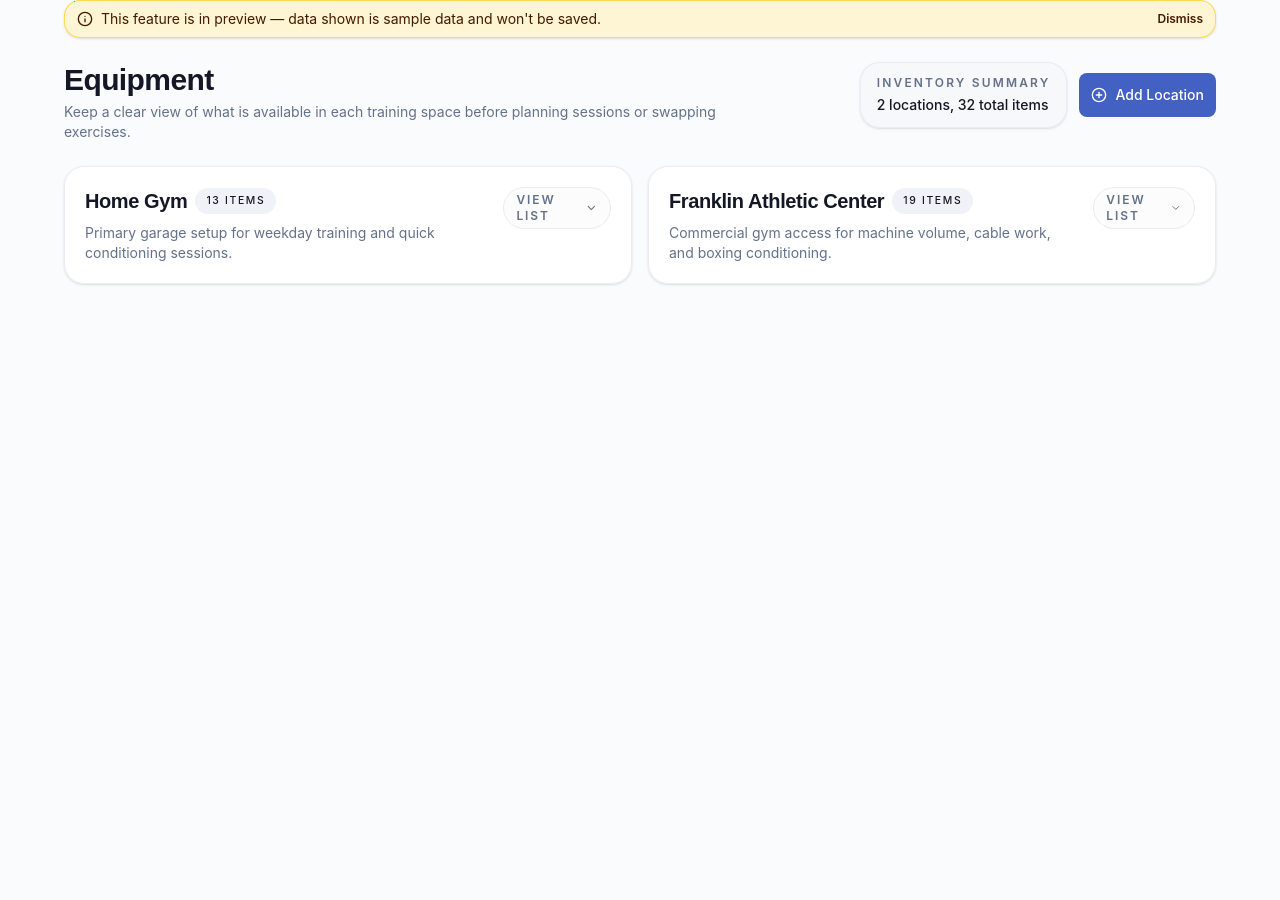
EquipmentRoutePage › supports inline editing for an equipment item name and details
Click the button "Home Gym". click: {"x": 348, "y": 225}
box: [65,167,631,283]
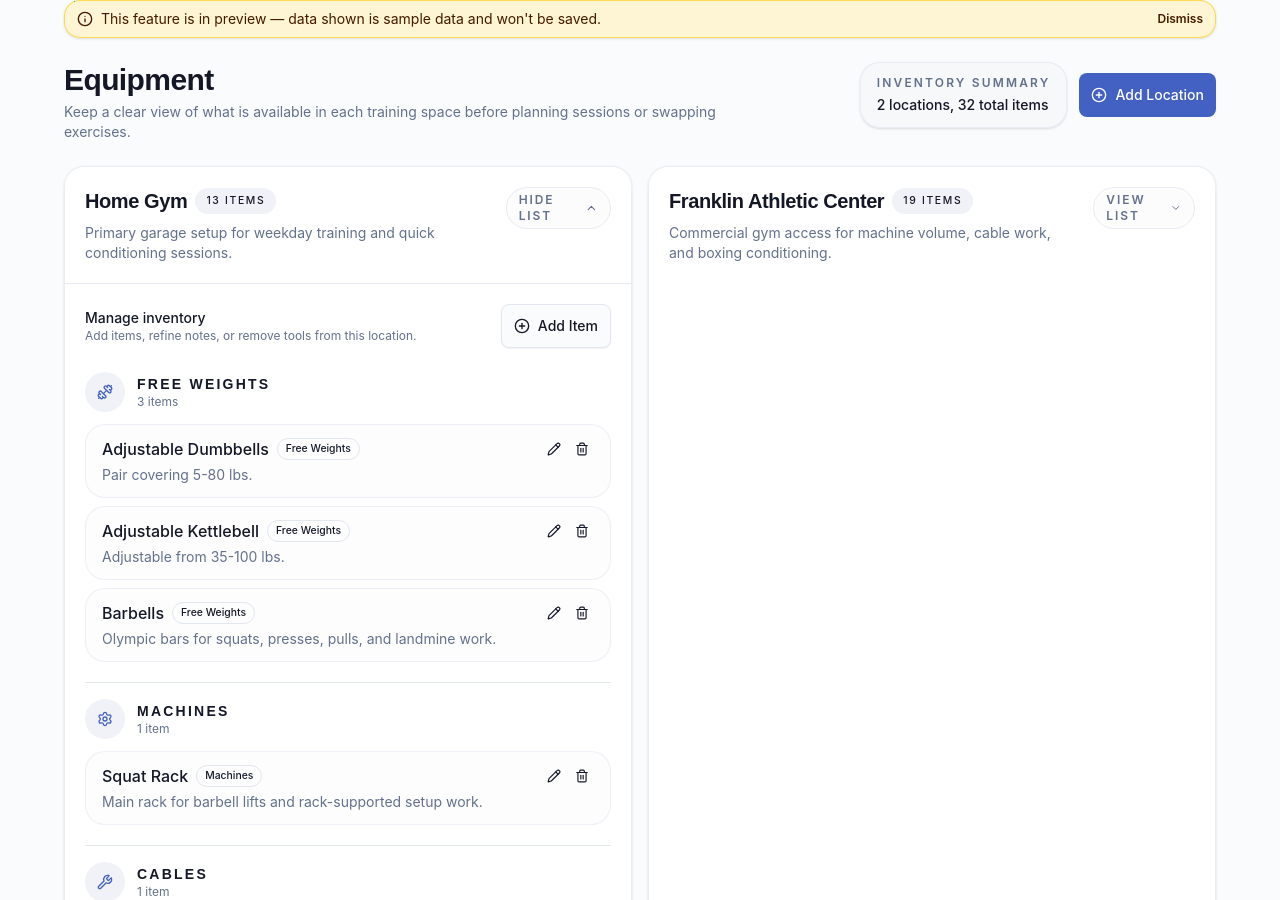
Click the button named "Edit Adjustable Dumbbells". click: {"x": 554, "y": 449}
box: [542,437,566,461]
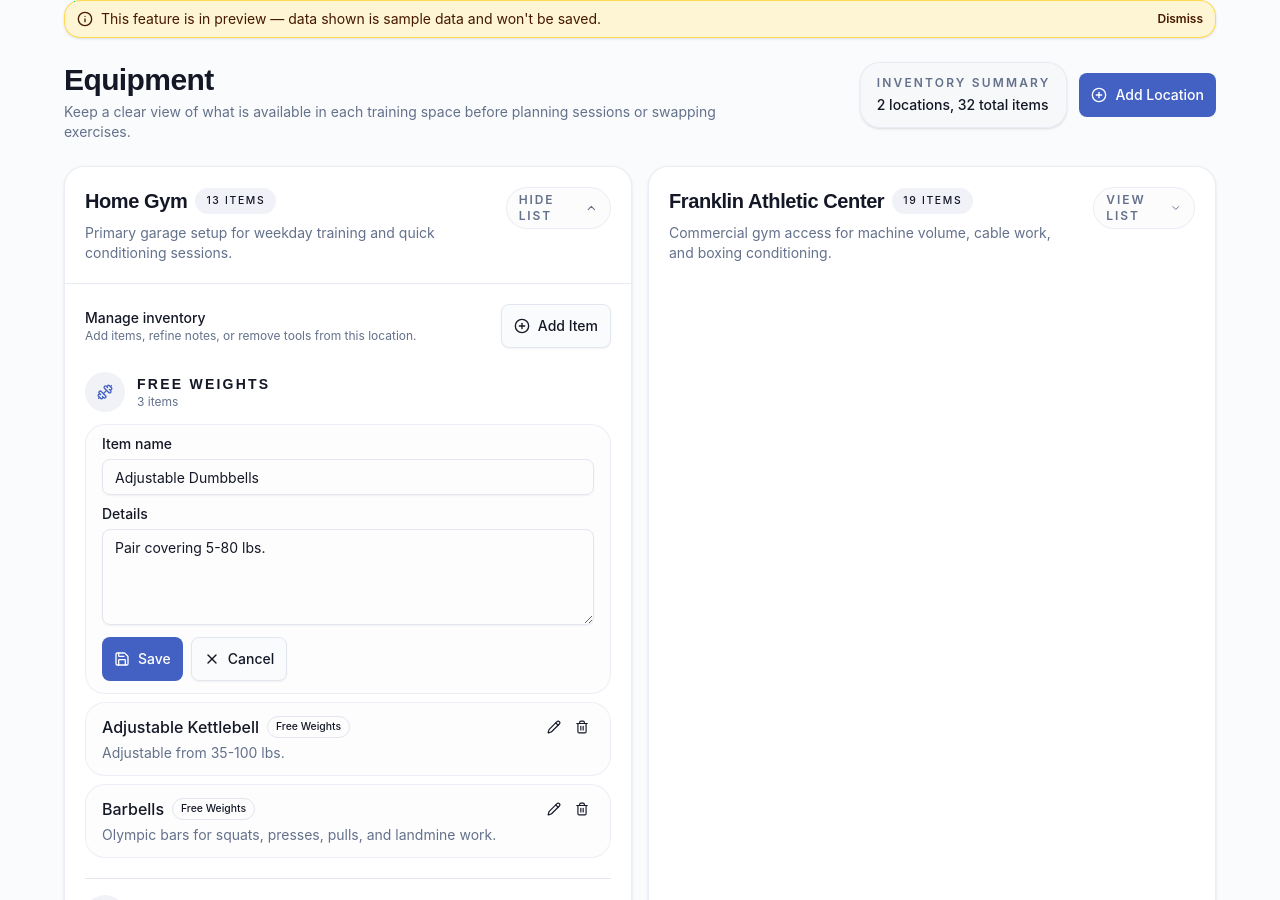
Replace the text in the field labelled "Item name" with "Competition Dumbbells". click: {"x": 348, "y": 477}
box: [102,459,594,495]
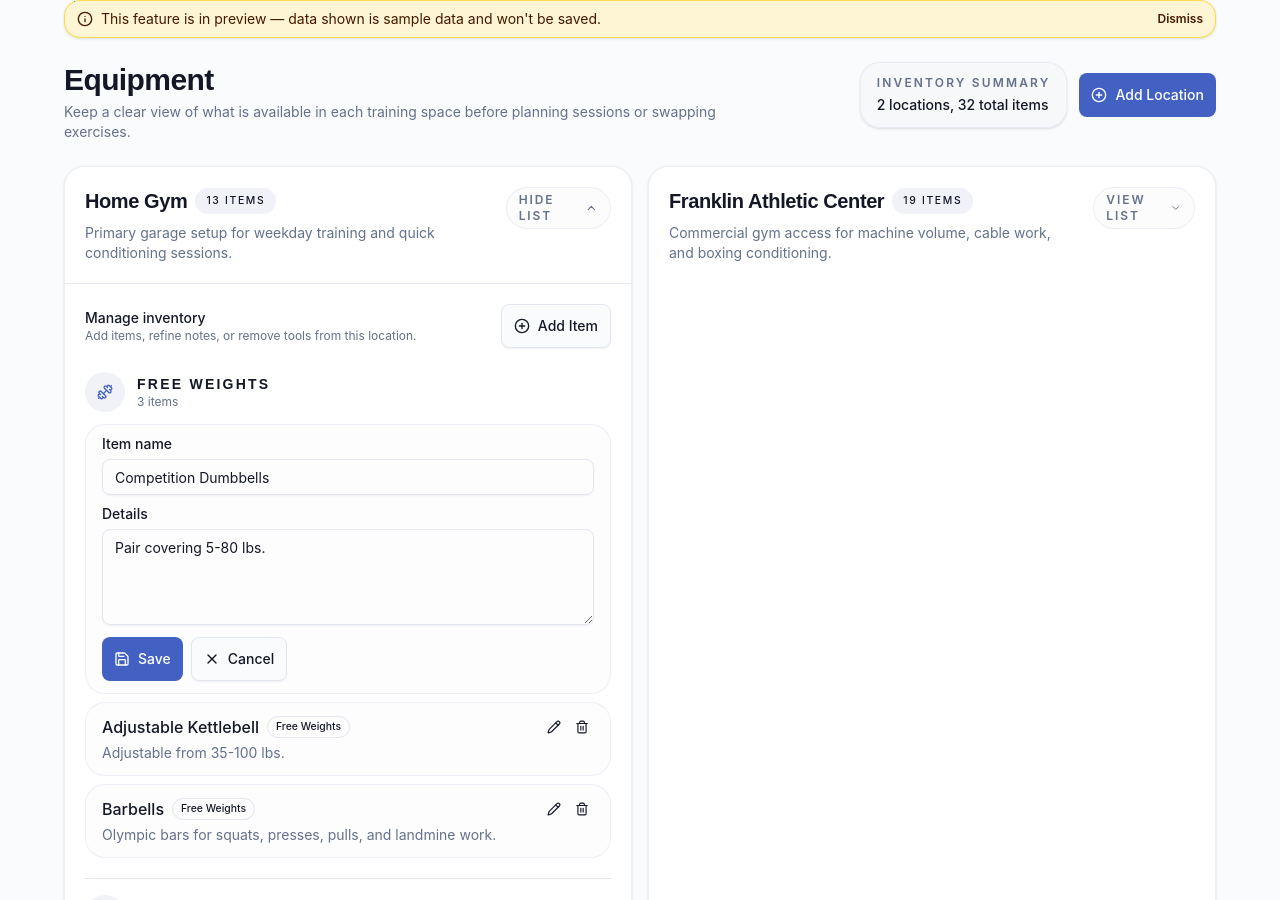
Replace the text in the text box labelled "Details" with "Pair covering 10-90 lbs.". click: {"x": 348, "y": 577}
box: [102,529,594,625]
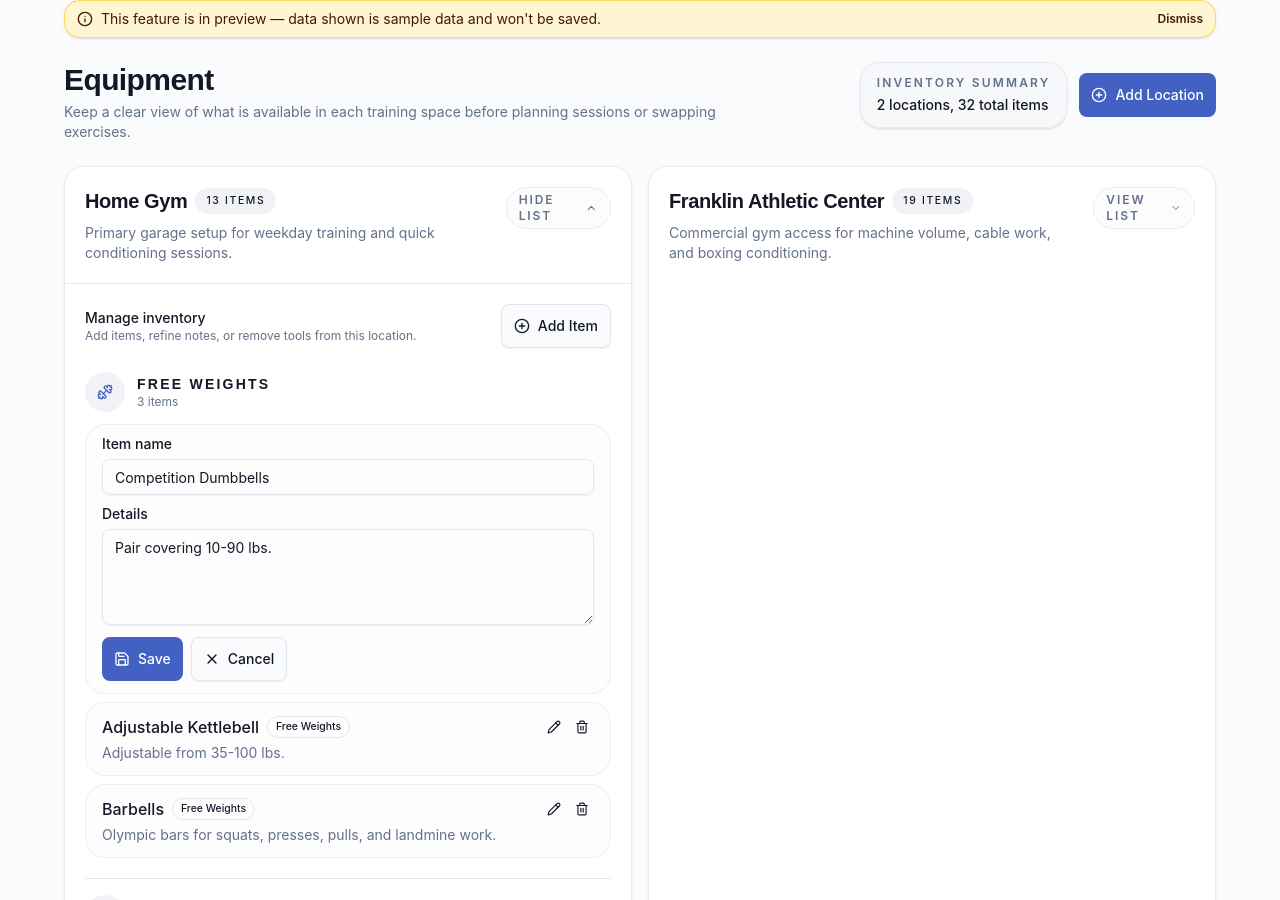
Click the button "Save". click: {"x": 142, "y": 659}
box: [102,637,183,681]
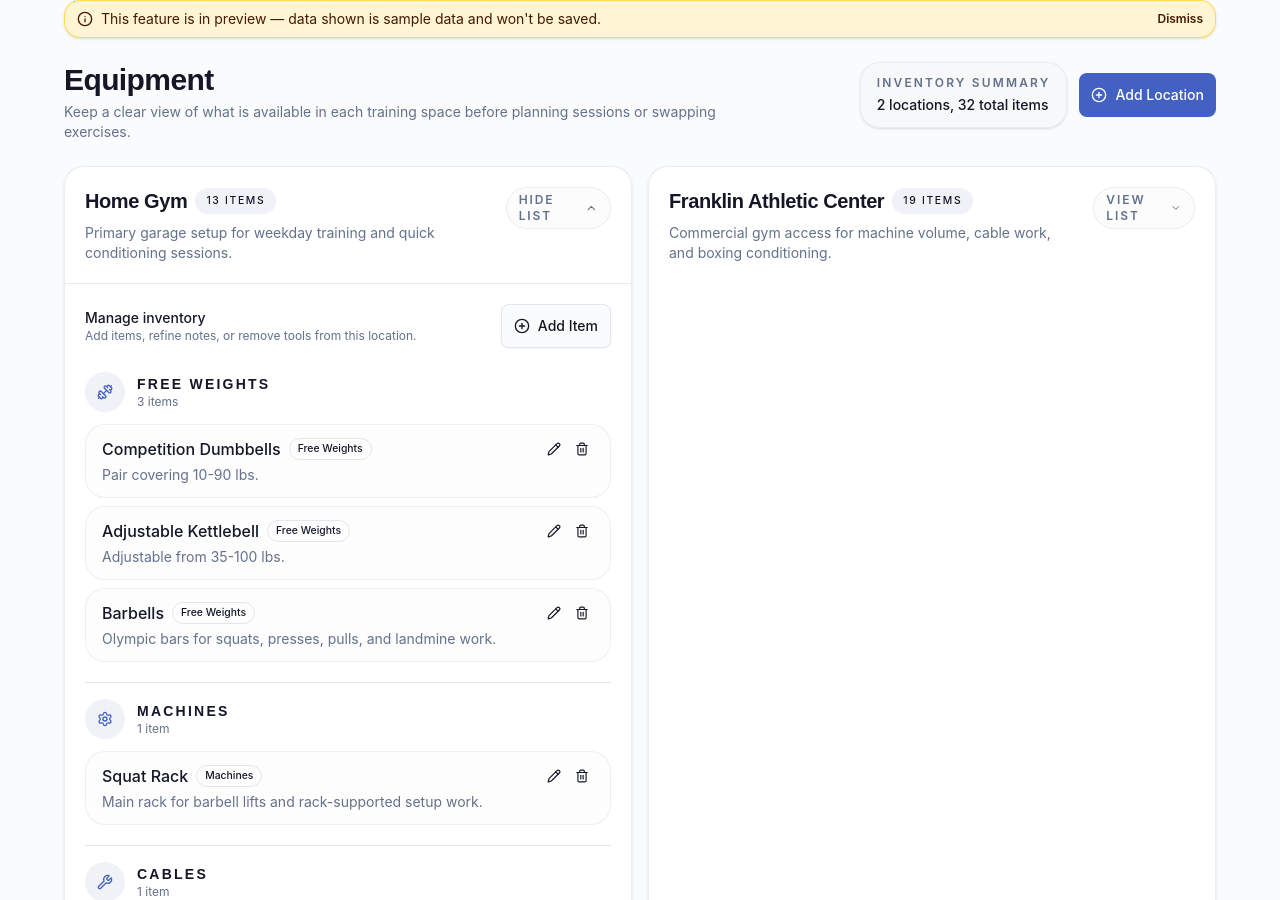
Expected: the text "Adjustable Dumbbells" is not shown
Result: the text "Competition Dumbbells" is shown at [102,437,281,461]
Result: the text "Pair covering 10-90 lbs." is shown at [102,466,259,483]
